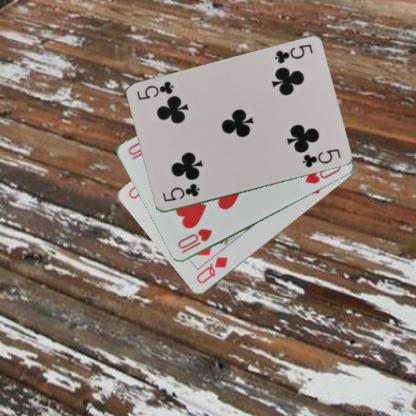10h: (175, 226, 213, 255)
5c: (272, 42, 314, 65), (160, 181, 201, 203)
Qd: (193, 254, 228, 286)
